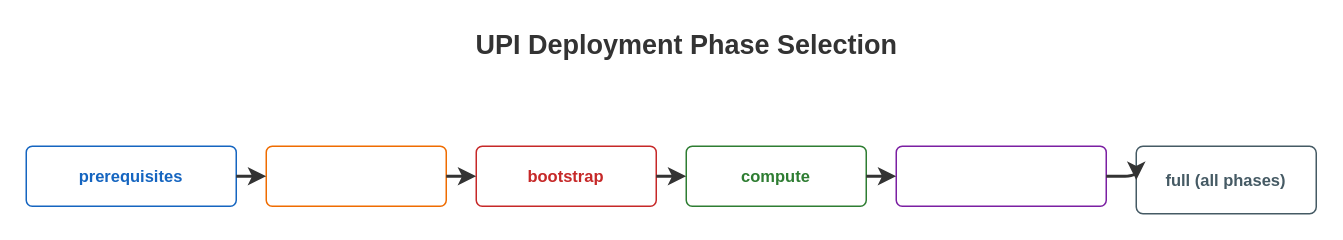
The diagram is 1343 pixels wide and 240 high, and some of its shapes have lost their labels. The box of each missing label's shape, as (x1, y1, x2, y2) in pixels:
day2-operators: (895, 145, 1106, 206)
ignition: (265, 145, 446, 206)
